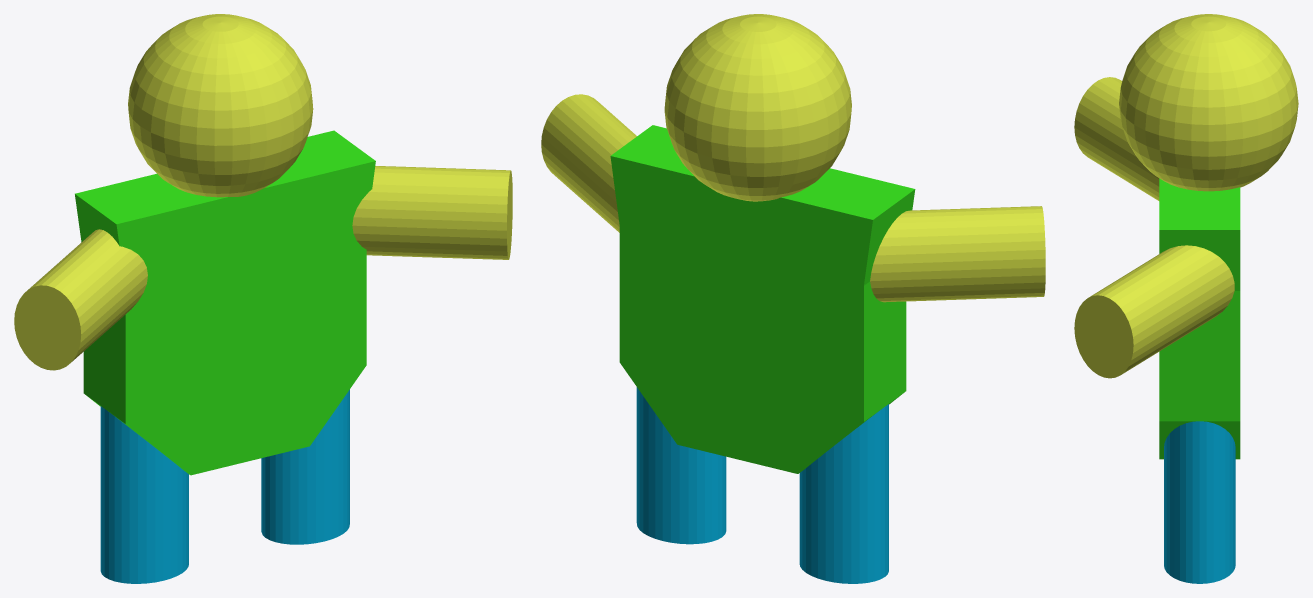
File: AlienMidget.fbx
3 renders of one model, left to right at view 1: azimuth 30°, elevation 25°; view 2: azimuth 150°, elevation 25°; view 3: azimuth 270°, elevation 25°, orthographic. The views are drawn at different scales.
Visible parts, largest first — view 1: Cube.001, Sphere, Cylinder.002, Cylinder.001, Cylinder.003, Cylinder; view 2: Cube.001, Sphere, Cylinder.003, Cylinder.001, Cylinder, Cylinder.002; view 3: Sphere, Cube.001, Cylinder.002, Cylinder, Cylinder.003.
Boxes of the visible parts, x1,y1,x2,y2 form: Cube.001: [75, 130, 375, 475]; Sphere: [128, 14, 313, 197]; Cylinder.002: [352, 166, 512, 259]; Cylinder.001: [100, 406, 188, 583]; Cylinder.003: [14, 229, 147, 370]; Cylinder: [261, 389, 349, 544]; Cube.001: [610, 125, 915, 473]; Sphere: [664, 14, 851, 201]; Cylinder.003: [870, 206, 1045, 302]; Cylinder.001: [799, 404, 888, 583]; Cylinder: [636, 387, 726, 544]; Cylinder.002: [541, 94, 636, 232]; Sphere: [1119, 14, 1298, 191]; Cube.001: [1159, 178, 1240, 459]; Cylinder.002: [1074, 245, 1234, 378]; Cylinder: [1164, 421, 1235, 583]; Cylinder.003: [1074, 77, 1159, 200].
Size of the model in its own units: 620 by 620 by 250.
